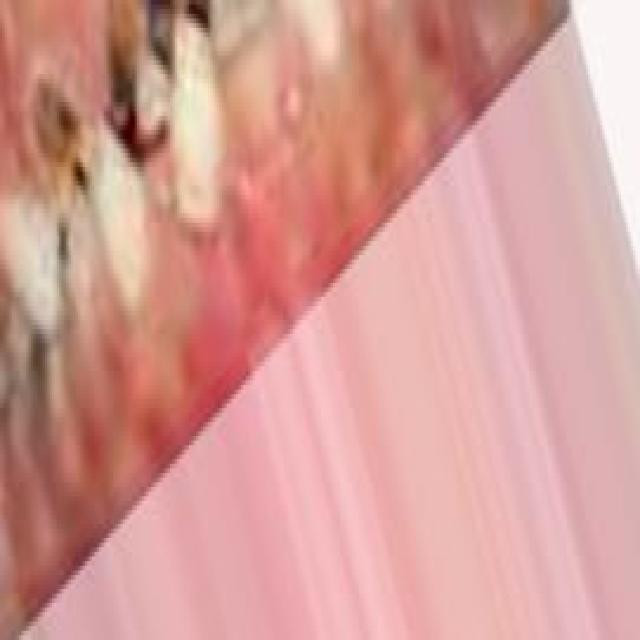caries: (21, 61, 98, 224), (97, 0, 171, 152)
